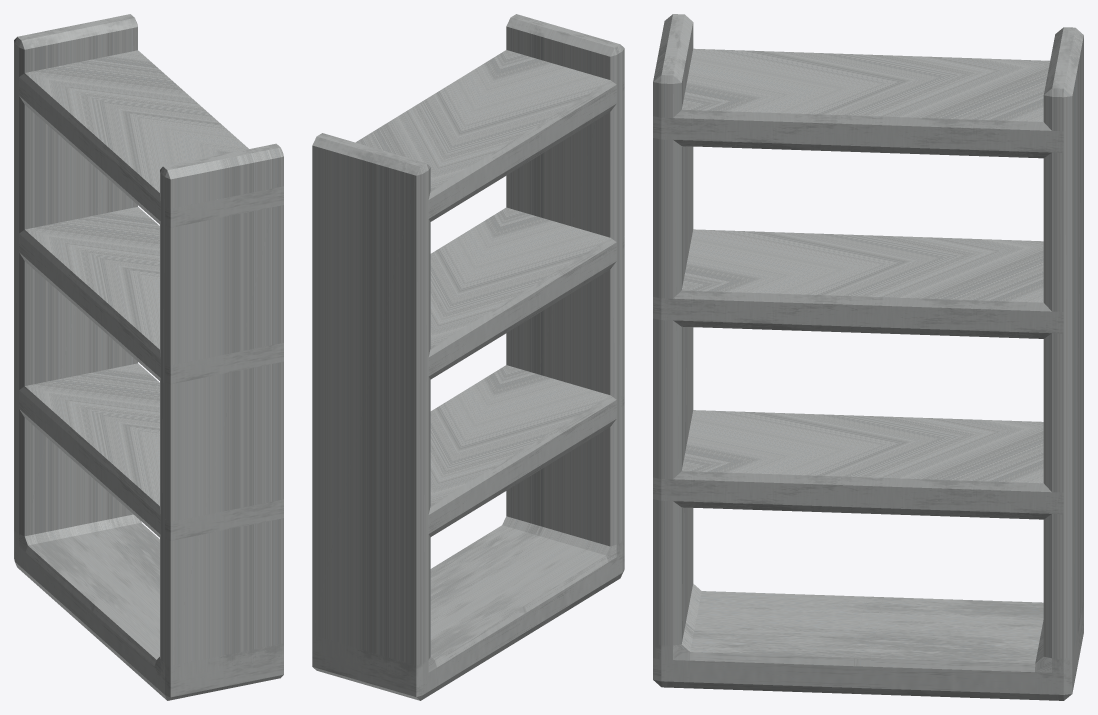
The model's file is shkaf.fbx.
The picture shows the model from 3 angles, left to right: view 1: azimuth 30°, elevation 25°; view 2: azimuth 150°, elevation 25°; view 3: azimuth 270°, elevation 25°; orthographic projection. The views are drawn at different scales.
Parts seen in each view (by area): view 1: Cube.013; view 2: Cube.013; view 3: Cube.013.
Part boxes in pixels (x1,y1,x2,y2): Cube.013: (14,14,283,700); Cube.013: (312,14,624,700); Cube.013: (653,14,1083,700).
Size of the model in its own units: 0.9164 by 3.39 by 2.16.
